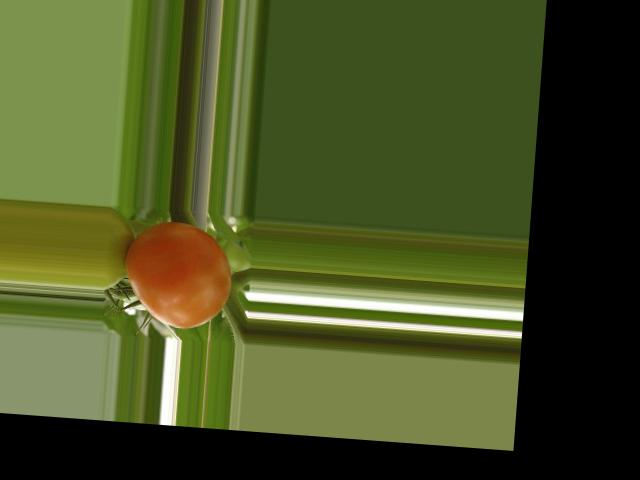tomato: (121, 218, 235, 332)
